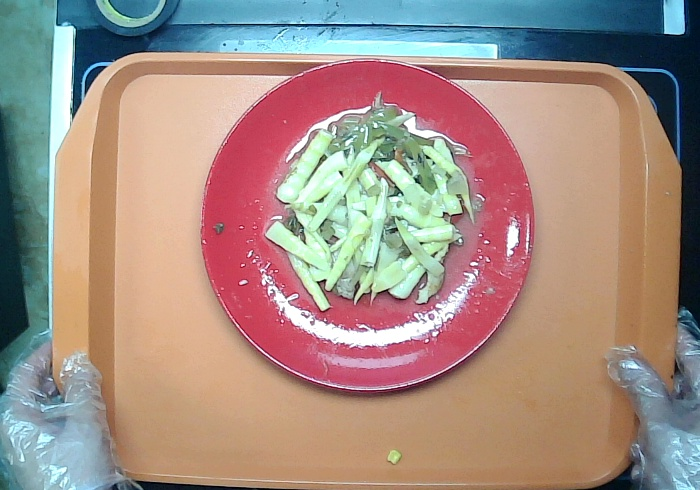HZYJPL-Hong_Se_Yuan_Pan: (202, 56, 537, 398)
